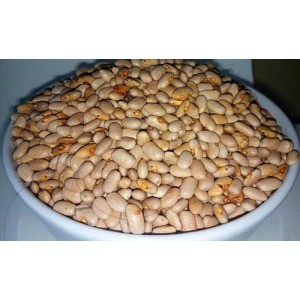beans_brain food: (94, 102, 203, 200)
